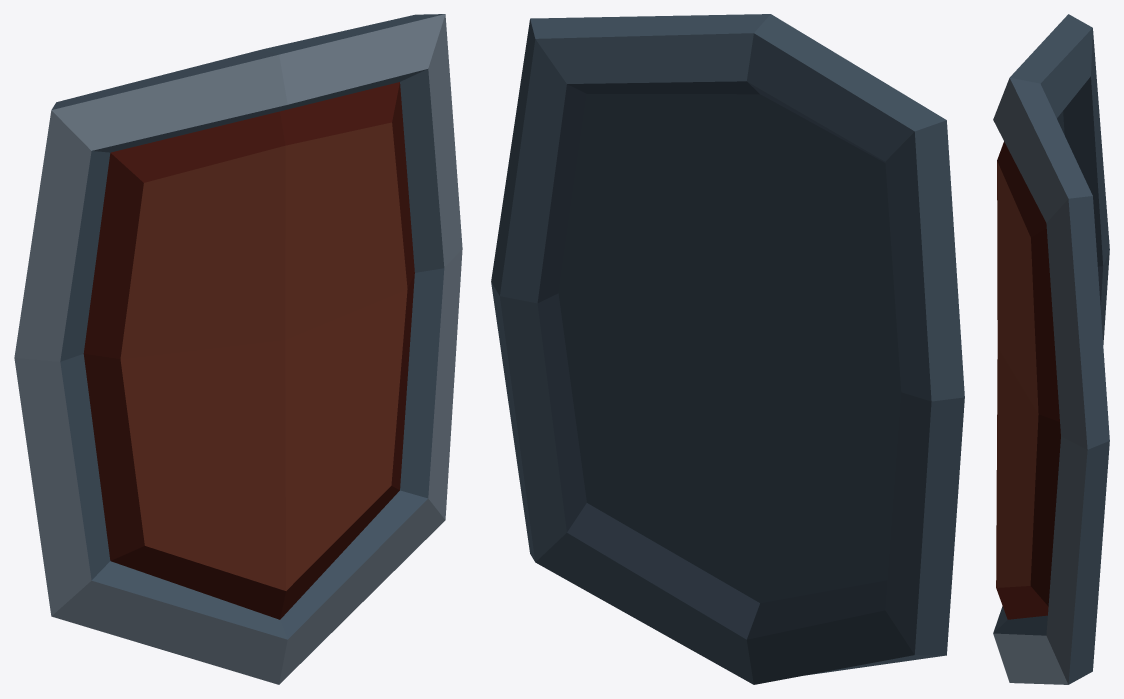
File: shield.fbx
3 views of the same model, side by side, from view 1: azimuth 30°, elevation 25°; view 2: azimuth 150°, elevation 25°; view 3: azimuth 270°, elevation 25° (orthographic). The views are drawn at different scales.
Visible parts, largest first — view 1: Shield; view 2: Shield; view 3: Shield.
Boxes of the visible parts, bbox=[...] form: Shield: bbox=[14, 14, 462, 684]; Shield: bbox=[491, 14, 964, 684]; Shield: bbox=[993, 14, 1109, 684].
Bounding box in the file's own units: 116 × 156 × 27.32.
